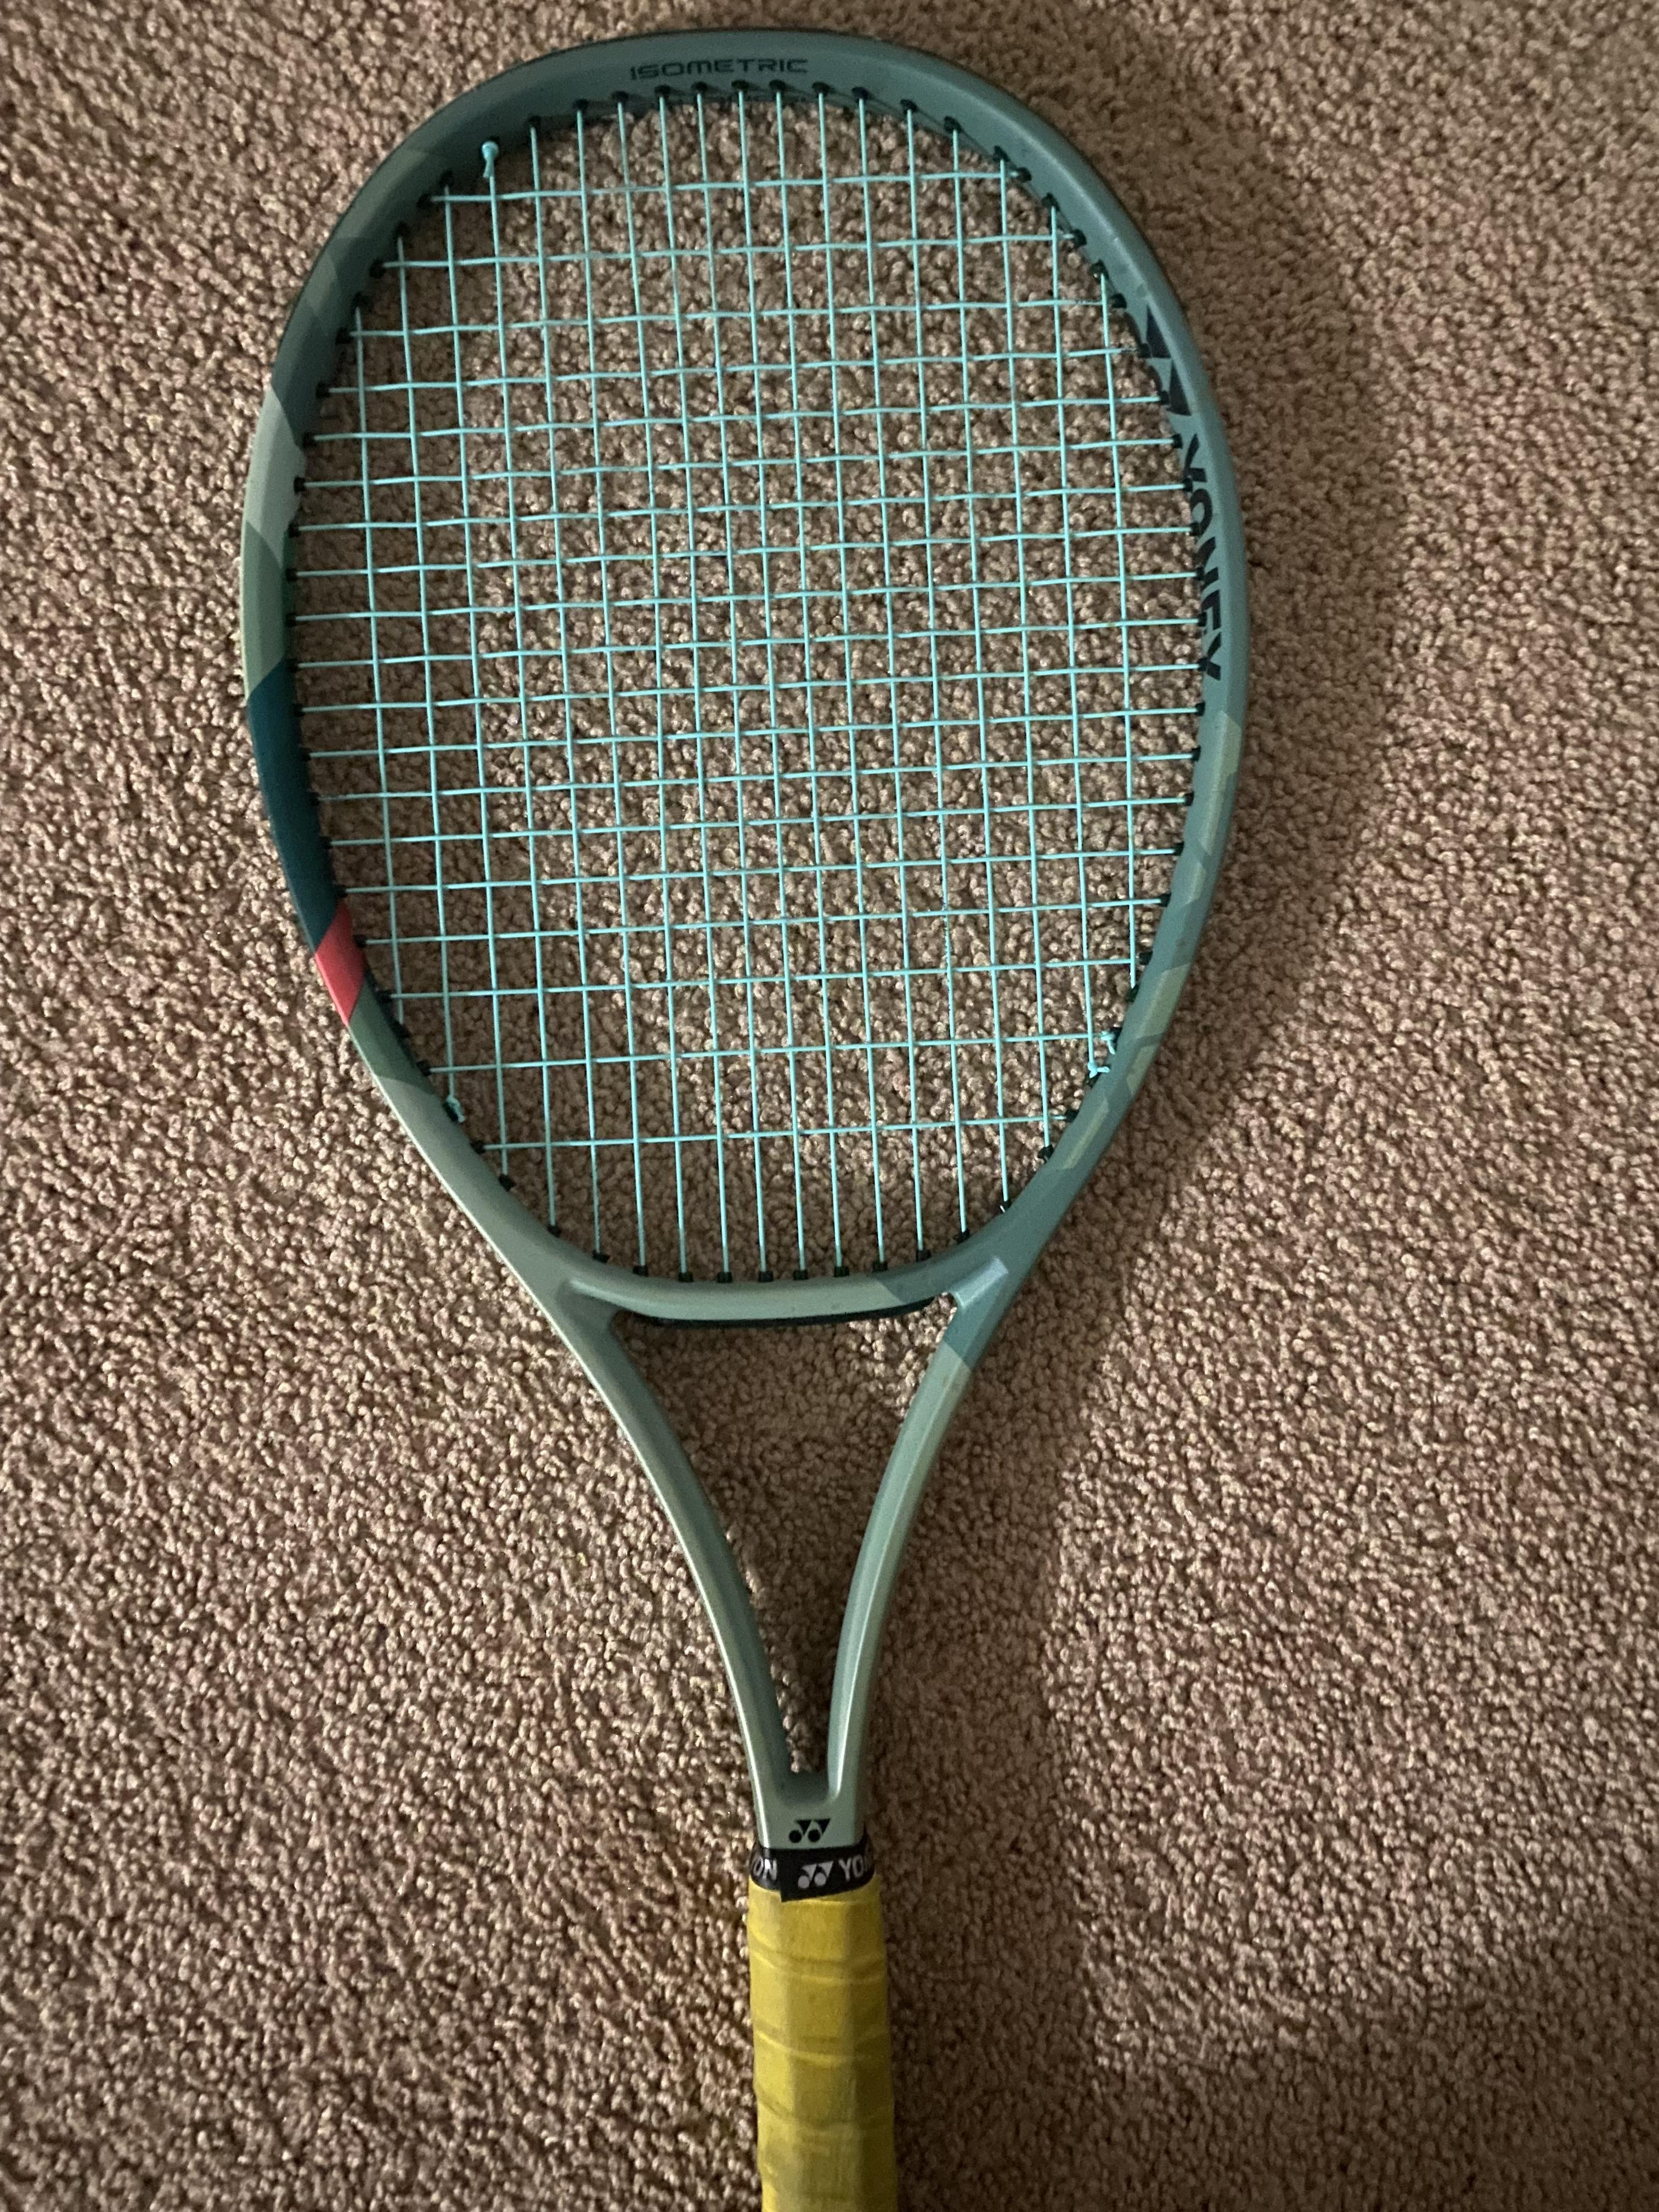Tennis-Racket: (242, 35, 1249, 2212)
